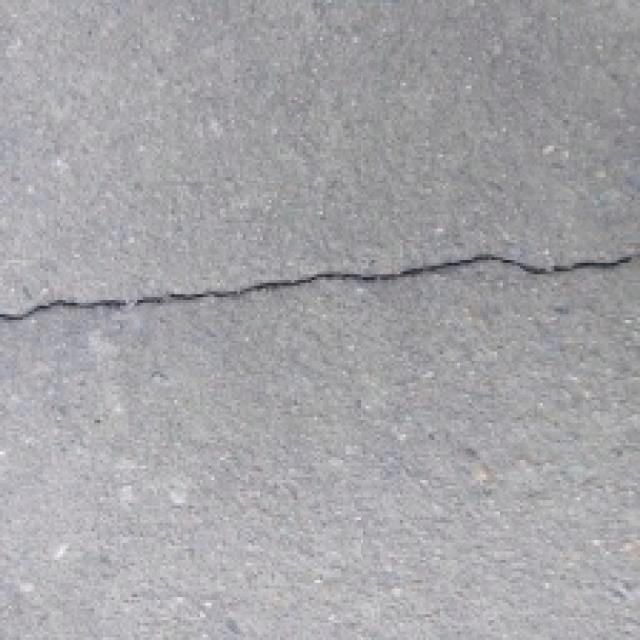crack: (0, 220, 640, 380)
